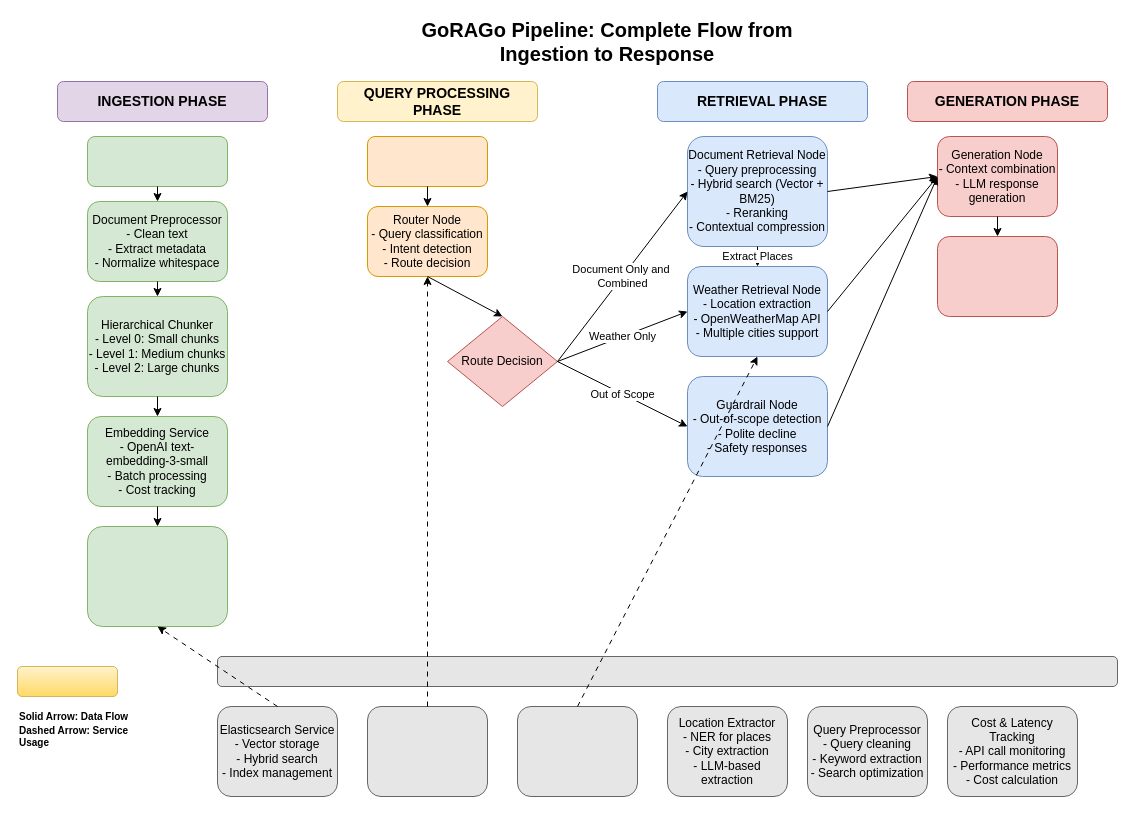
Image size: 1135x814. Some labels were removed from this diagram. The box of each missing label's shape, as (x1, y1, x2, y2) in pixels:
CORE SERVICES: (216, 656, 1118, 686)
Document Upload (.txt files): (86, 136, 228, 186)
Elasticsearch Indexing - Child chunks index - Vector + BM25 search: (86, 526, 228, 626)
Final Response - Answer + Sources - Metrics & Metadata: (936, 236, 1058, 316)
LEGEND: (16, 666, 118, 696)
LLM Service - OpenAI GPT-4 - Query classification - Response generation: (366, 706, 488, 796)
User Query (via API or Chat UI): (366, 136, 488, 186)
Weather Service - OpenWeatherMap API - Multi-city support - Error handling: (516, 706, 638, 796)
